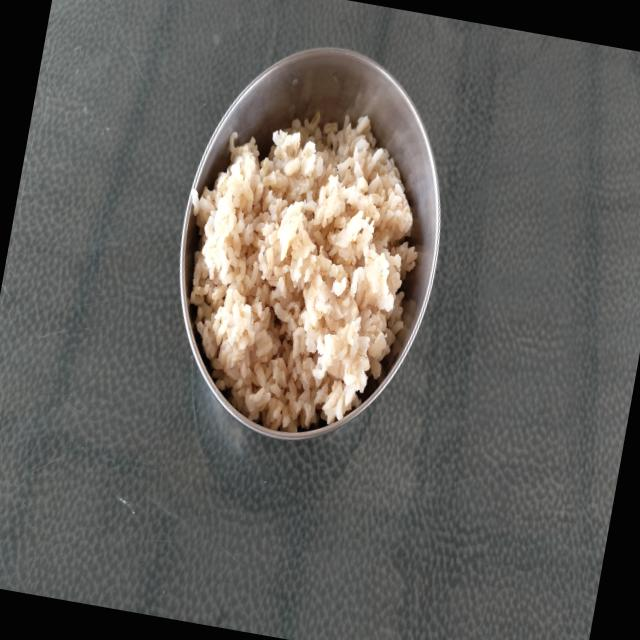brown-rice: (189, 114, 416, 432)
